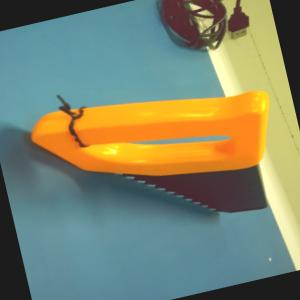serrote: (23, 64, 294, 256)
